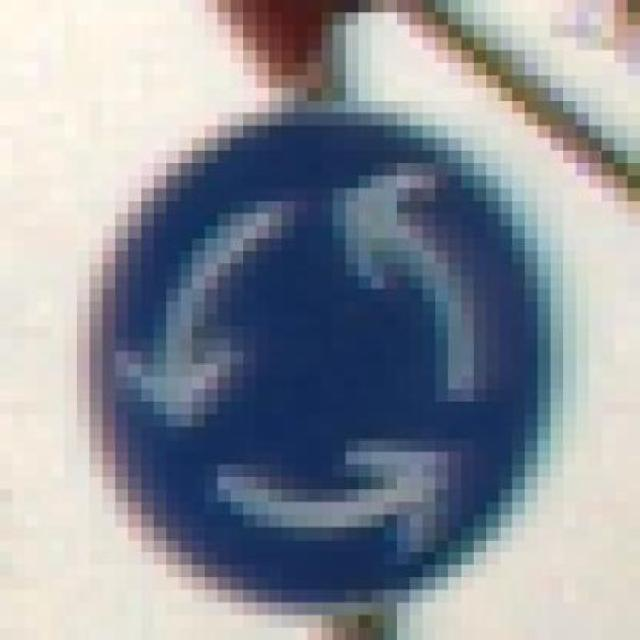Round-About: (38, 100, 590, 628)
